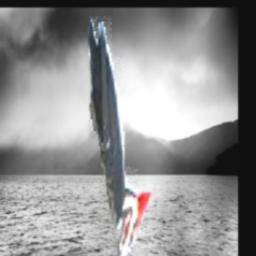Woodpecker: (88, 14, 152, 256)
